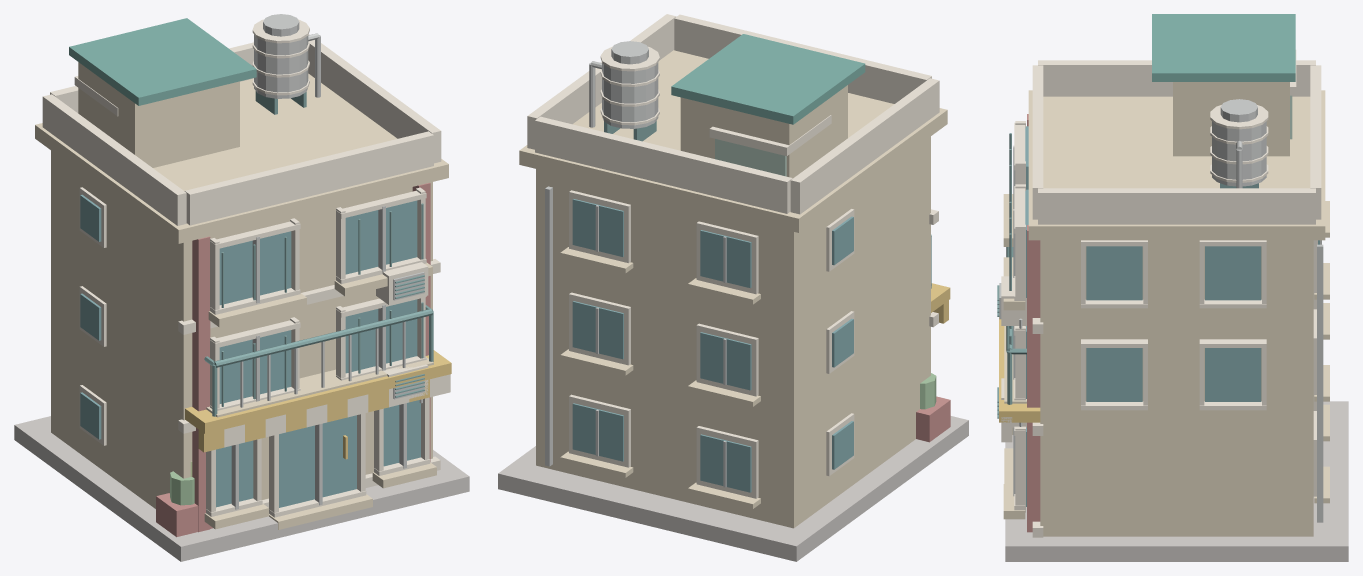
Rendered from town-tiantou-3.glb.
3 renders of one model, left to right at view 1: azimuth 30°, elevation 25°; view 2: azimuth 150°, elevation 25°; view 3: azimuth 270°, elevation 25°, orthographic. The views are drawn at different scales.
Visible parts, largest first — view 1: paving; view 2: paving; view 3: paving.
Part boxes in pixels (x1,y1,x2,y2): paving: [14, 14, 469, 561]; paving: [498, 14, 968, 561]; paving: [997, 14, 1348, 561].
Size of the model in its own units: 2.2 by 2.95 by 2.25.
Materials: 1 (1 with a texture image).
